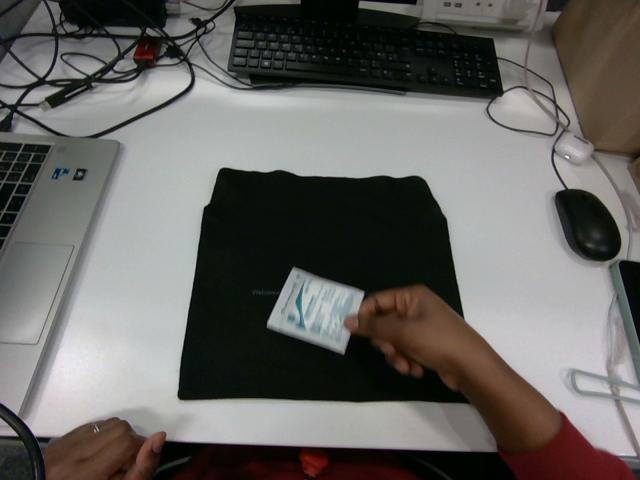gauze: (269, 267, 363, 354)
